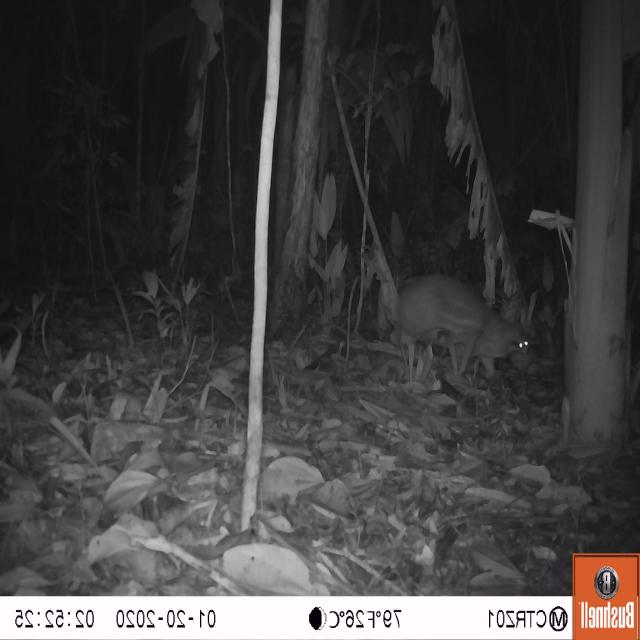Spotted Paca: (375, 252, 550, 400)
